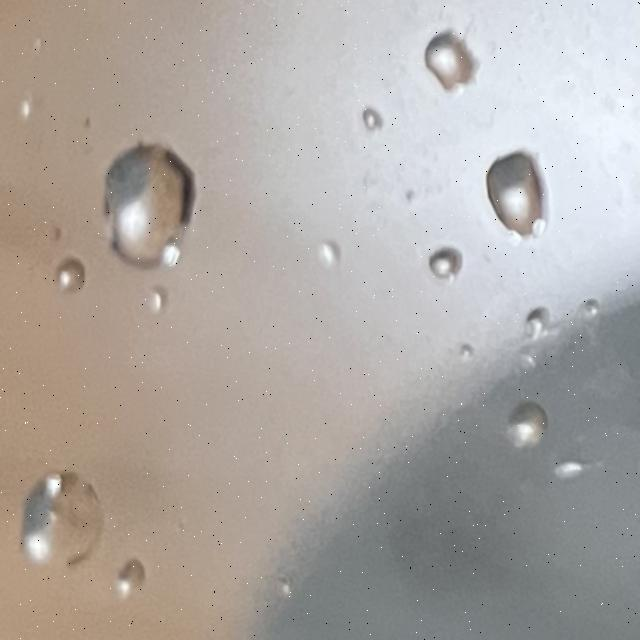raindrop: (96, 142, 210, 268), (20, 465, 110, 568), (477, 138, 560, 242), (418, 27, 490, 103), (504, 392, 565, 456), (112, 560, 160, 608), (49, 260, 96, 298), (556, 454, 602, 490), (418, 248, 466, 281), (312, 238, 348, 281), (570, 290, 606, 328), (357, 101, 390, 142), (142, 286, 179, 321), (522, 300, 551, 338), (12, 90, 42, 120)
